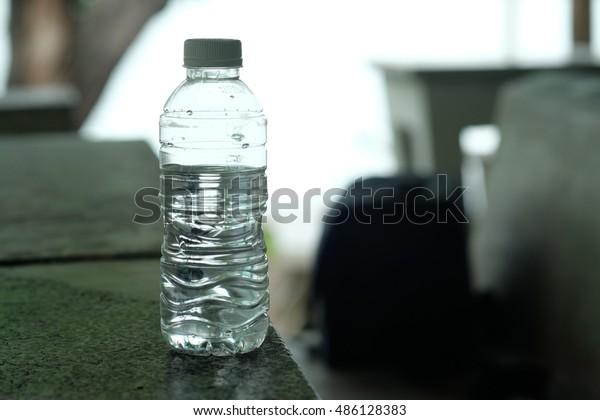bottle: (153, 27, 278, 364)
